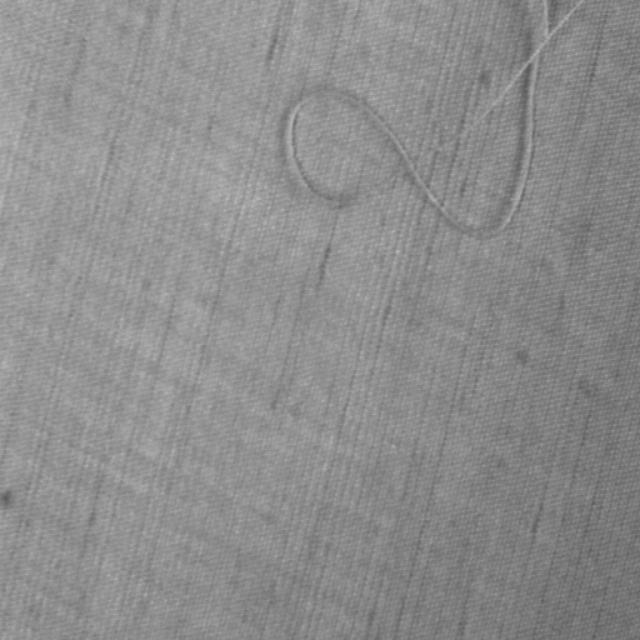objects: (278, 0, 590, 248)
